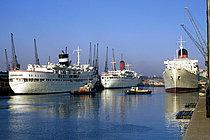Ship: (6, 46, 99, 96), (159, 32, 203, 96), (99, 48, 148, 94)
